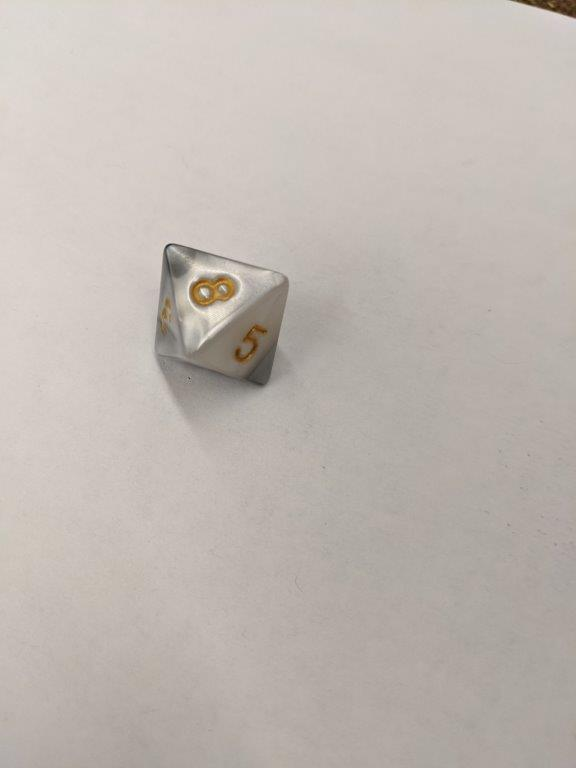d8-8: (149, 244, 291, 392)
